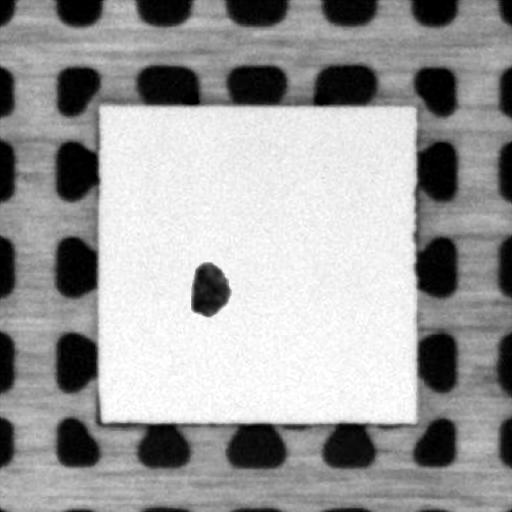DIE_INK: (185, 257, 232, 320)
